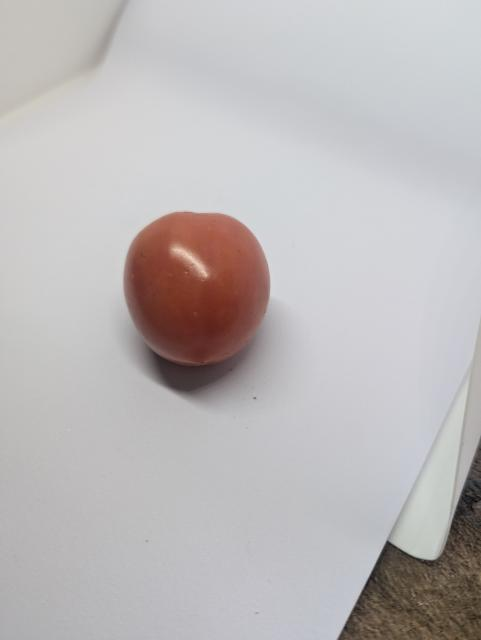red: (113, 201, 309, 394)
